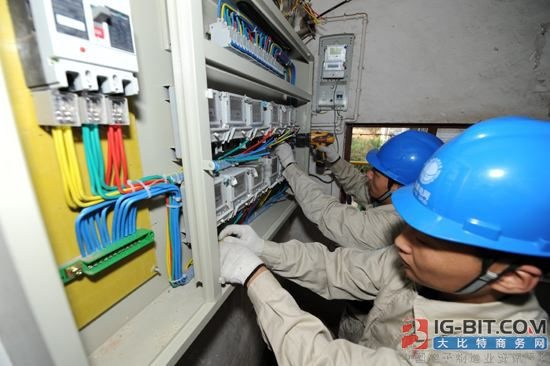blue: (393, 114, 550, 303), (363, 129, 441, 201)
